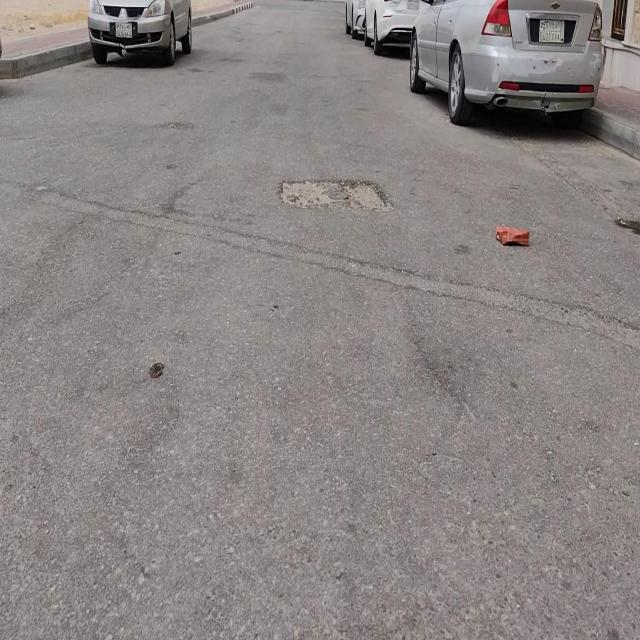Potholes: (278, 180, 392, 210)
